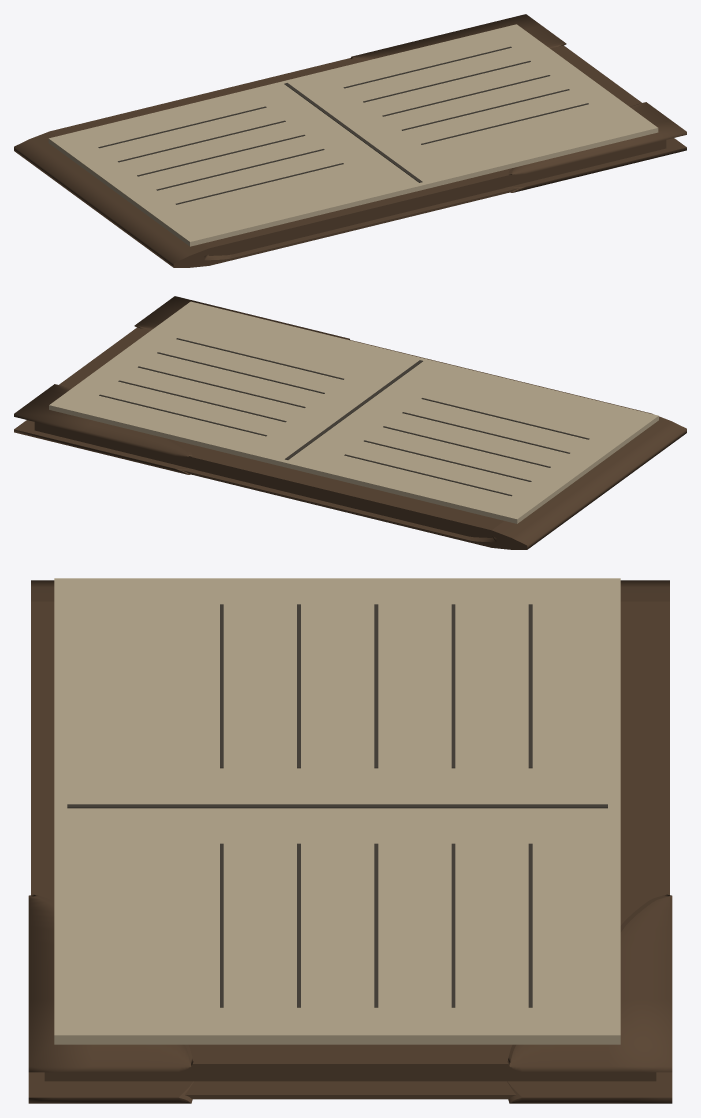
The model's file is station_vale.glb.
3 renders of one model, top to bottom at view 1: azimuth 30°, elevation 25°; view 2: azimuth 150°, elevation 25°; view 3: azimuth 270°, elevation 25°, orthographic. The views are drawn at different scales.
Visible parts, largest first — view 1: WorkContactPart, RetainedLedgerBinding, LedgerFold; view 2: WorkContactPart, RetainedLedgerBinding, LedgerFold; view 3: WorkContactPart, RetainedLedgerBinding, LedgerFold, LedgerInkLine, LedgerInkLine.002, LedgerInkLine.005, LedgerInkLine.007, LedgerInkLine.001, LedgerInkLine.006.
Boxes of the visible parts, x1,y1,x2,y2 form: WorkContactPart: [48, 24, 658, 246]; RetainedLedgerBinding: [14, 14, 686, 267]; LedgerFold: [284, 83, 422, 182]; WorkContactPart: [49, 301, 658, 523]; RetainedLedgerBinding: [14, 296, 686, 549]; LedgerFold: [285, 360, 422, 459]; WorkContactPart: [54, 578, 620, 1044]; RetainedLedgerBinding: [28, 580, 672, 1103]; LedgerFold: [67, 804, 607, 808]; LedgerInkLine: [528, 604, 532, 768]; LedgerInkLine.002: [374, 604, 378, 768]; LedgerInkLine.005: [528, 843, 532, 1007]; LedgerInkLine.007: [374, 843, 378, 1007]; LedgerInkLine.001: [451, 604, 455, 768]; LedgerInkLine.006: [451, 843, 455, 1007].
Bounding box in the file's own units: 0.46 × 0.0205 × 0.25.
